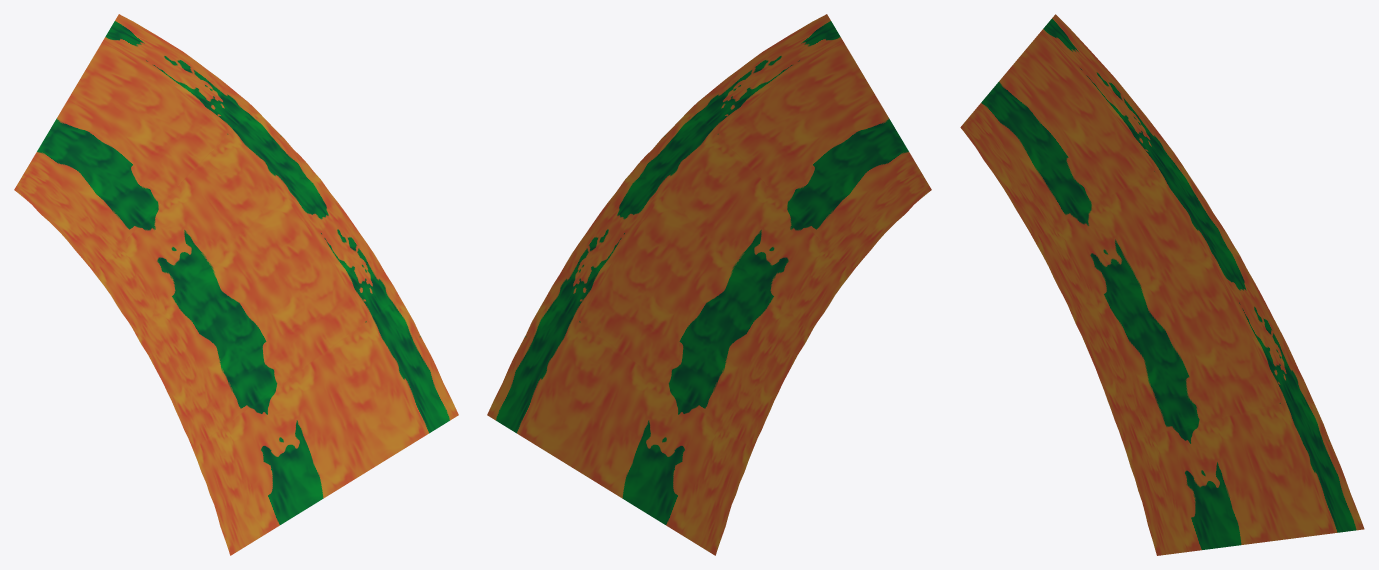
File: p_trashbot_end_sprinkler03_pose1.fbx
3 renders of one model, left to right at view 1: azimuth 30°, elevation 25°; view 2: azimuth 150°, elevation 25°; view 3: azimuth 330°, elevation 25°, orthographic. The views are drawn at different scales.
Parts seen in each view (by area): view 1: p_sprinkler_end_plane_03_pose1; view 2: p_sprinkler_end_plane_03_pose1; view 3: p_sprinkler_end_plane_03_pose1.
Boxes of the visible parts, left/top/right/bottom form: p_sprinkler_end_plane_03_pose1: left=14, top=14, right=458, bottom=555; p_sprinkler_end_plane_03_pose1: left=487, top=14, right=931, bottom=555; p_sprinkler_end_plane_03_pose1: left=960, top=14, right=1364, bottom=555.
Bounding box in the file's own units: 43.89 × 53.65 × 3.6e-06.
